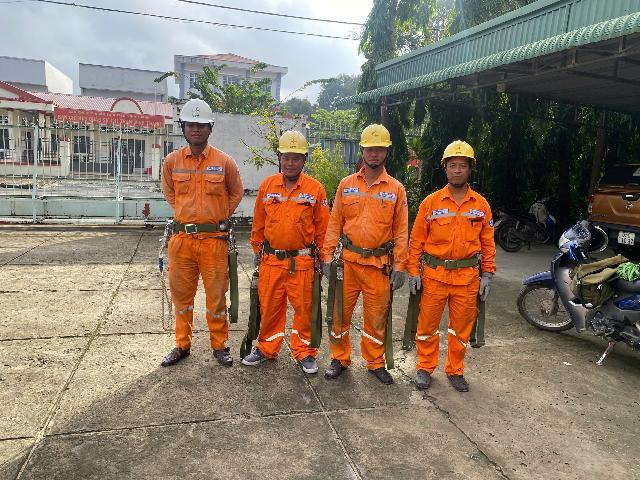gloves: (377, 265, 407, 293), (475, 270, 495, 304), (404, 267, 427, 295), (317, 254, 332, 285)
harness: (333, 229, 405, 265), (153, 211, 237, 239), (412, 242, 485, 268), (256, 239, 325, 257)
helmet: (354, 112, 404, 162), (156, 99, 220, 135), (435, 129, 483, 173), (267, 128, 319, 161)
shoes: (359, 359, 401, 386), (204, 339, 237, 369), (443, 362, 474, 392), (412, 361, 440, 394), (322, 356, 355, 383), (293, 347, 320, 379), (238, 348, 281, 368), (158, 347, 192, 369)
